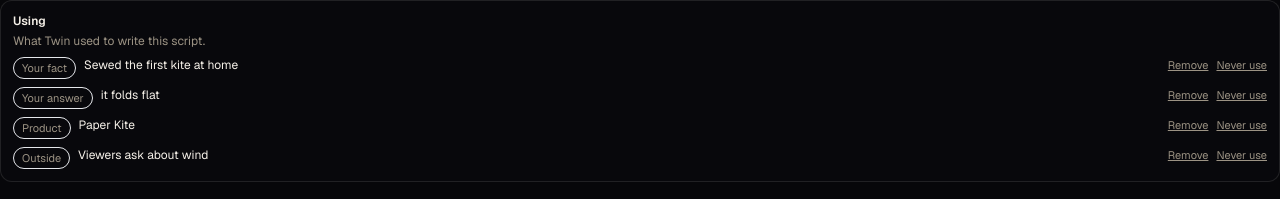
UsingList › "Never use" sends the item (any kind) to using_item and confirms
Click the button "Never use" in the row of "Outside" at x=1242, y=155, box [1216,147,1267,163]
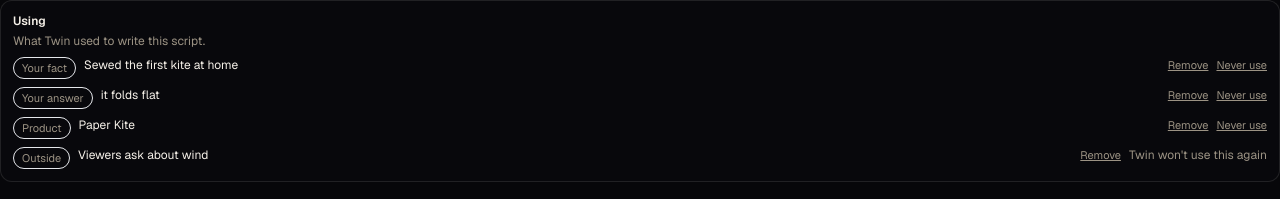
expect the text "Twin won't use this again" is shown: met, box [1129,147,1267,163]
